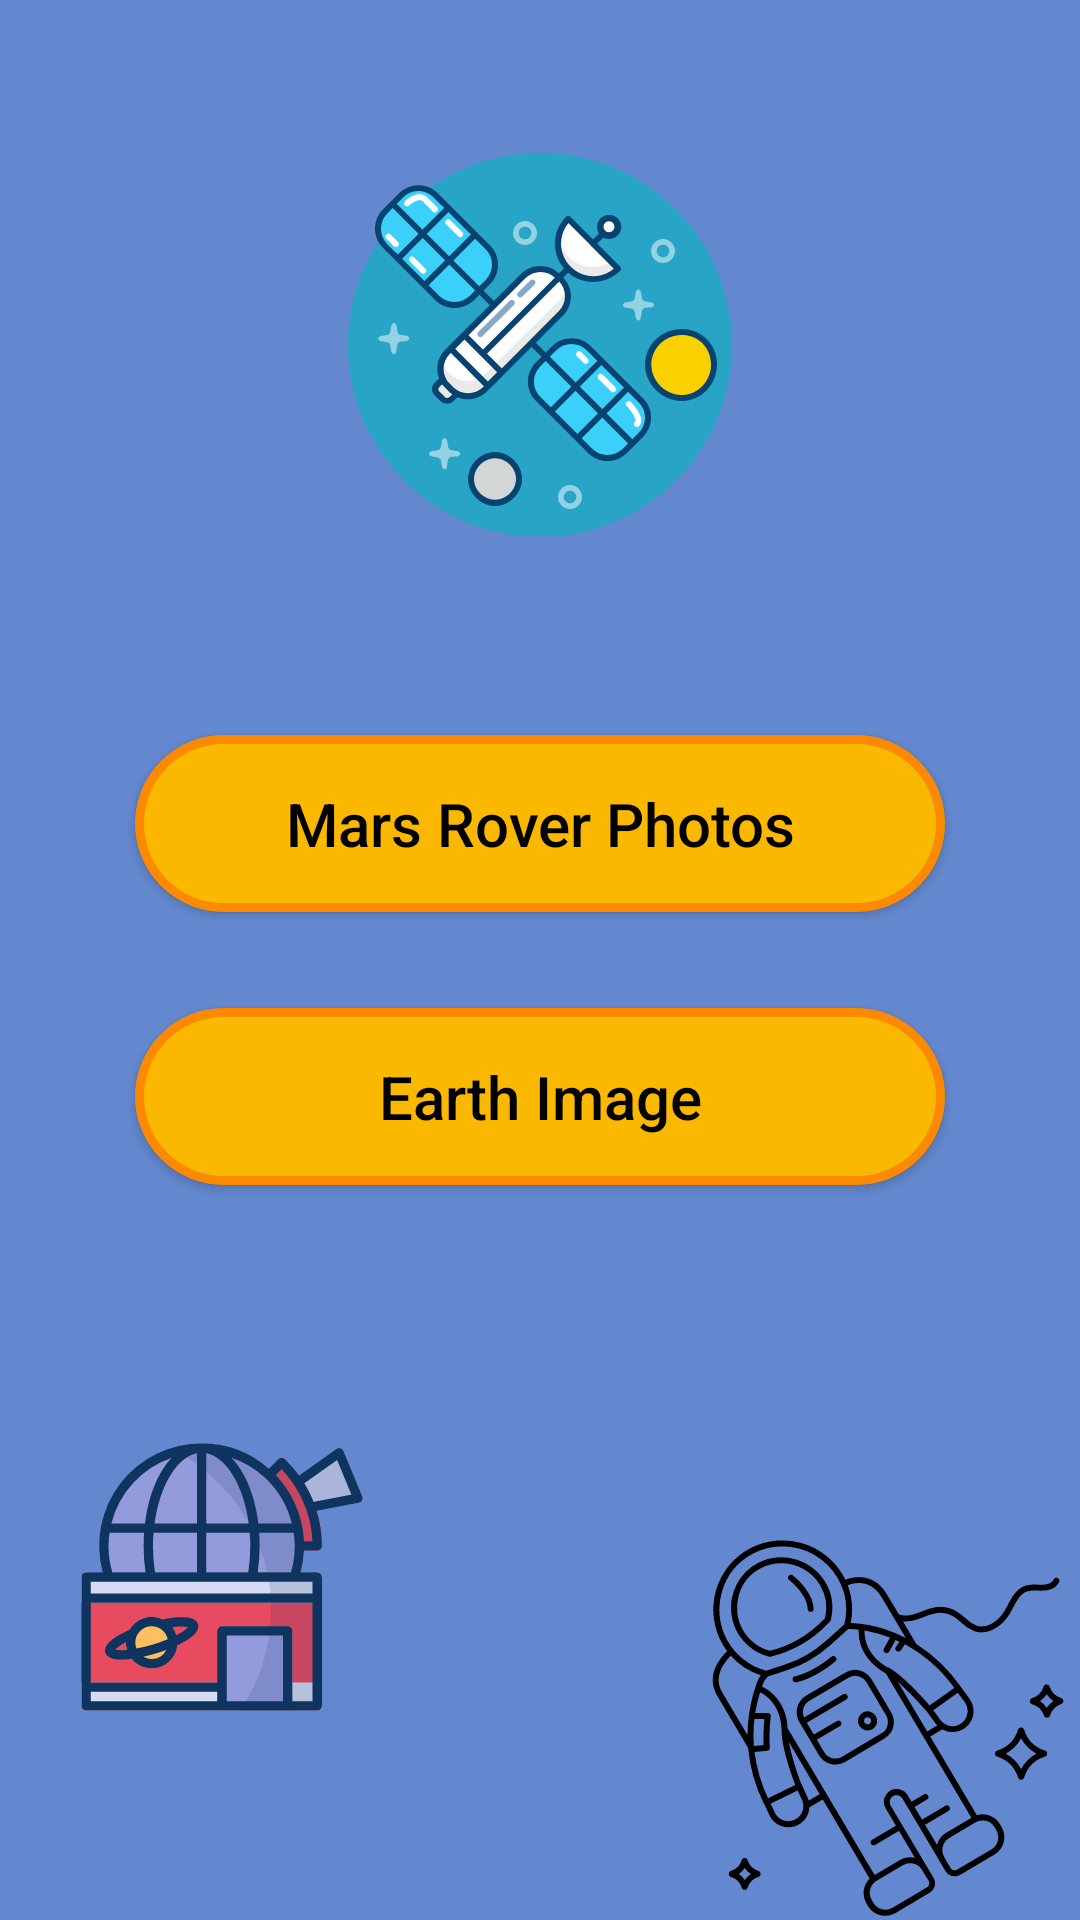

Named icons in this screenshot (1080 × 1920) and their bounding boxes, (x1, y1, x2, y2):
observatory: (81, 1443, 363, 1711)
